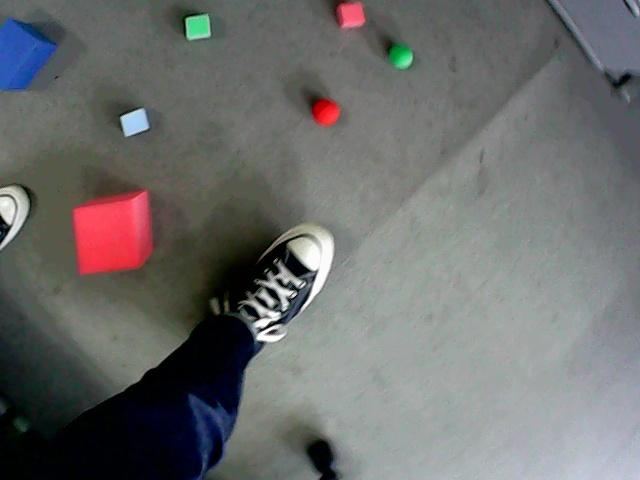blue_block: (0, 19, 56, 89), (120, 108, 150, 137)
red_block: (73, 190, 152, 273), (336, 2, 365, 27)
